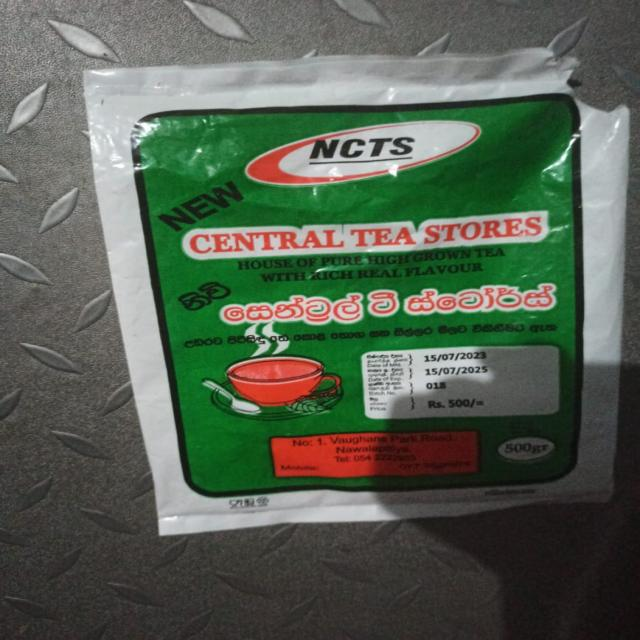Central Tea: (123, 105, 640, 583)
